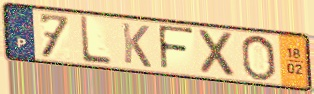7: (37, 12, 72, 60)
F: (156, 23, 196, 73)
K: (120, 21, 154, 70)
L: (78, 15, 113, 67)
O: (239, 34, 278, 82)
X: (196, 27, 238, 79)
